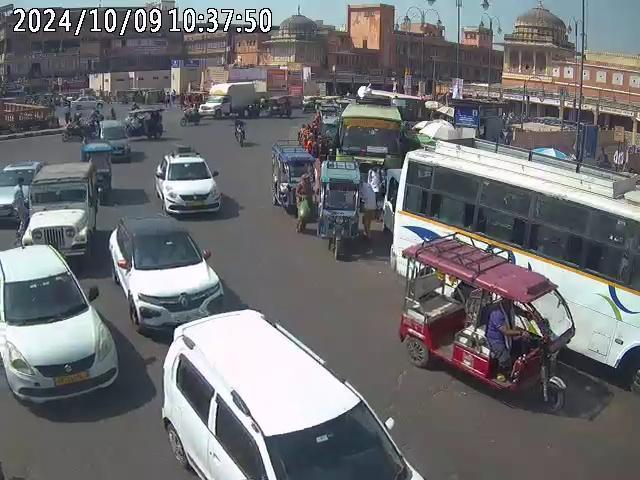auto: (399, 233, 575, 407), (320, 157, 360, 258), (269, 140, 317, 212), (81, 140, 112, 202)
bus: (390, 138, 639, 389), (336, 95, 404, 174)
car: (161, 308, 427, 480), (0, 241, 120, 412), (108, 215, 225, 341), (20, 162, 100, 264), (153, 151, 221, 218), (0, 159, 45, 223), (99, 119, 131, 162)
lorry: (200, 82, 257, 117)
motorbike-rider: (180, 104, 202, 126), (232, 116, 246, 147)
person: (295, 173, 317, 233), (297, 122, 315, 152)
